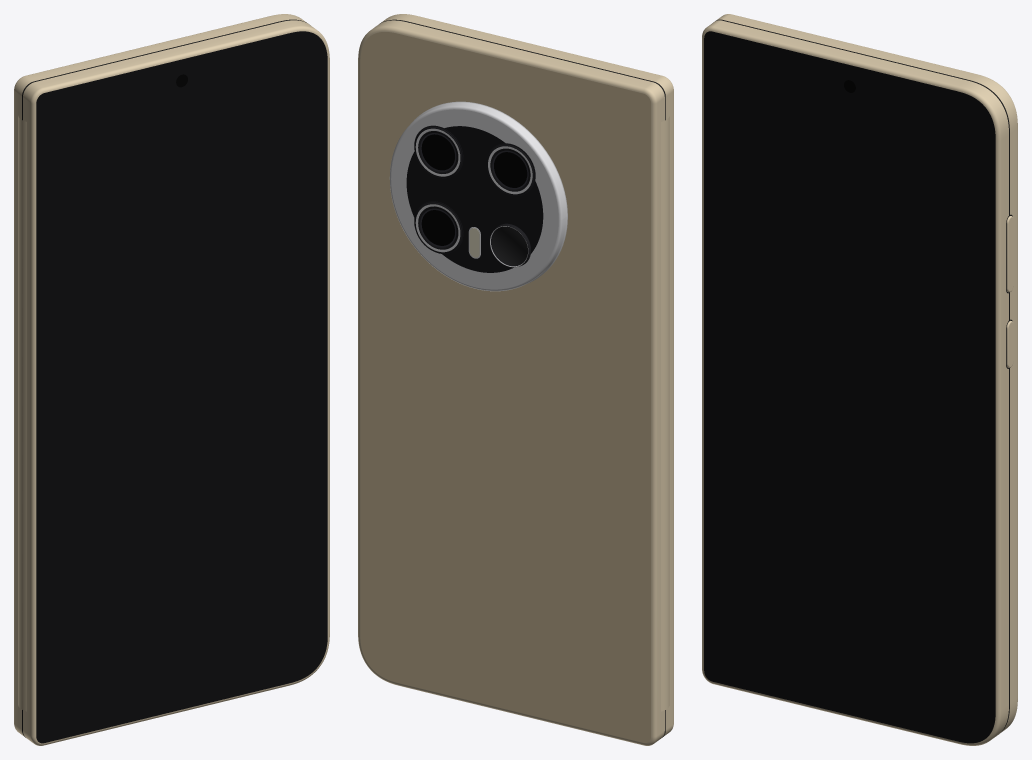
File: honor-magic-v6.glb
3 views of the same model, side by side, from view 1: azimuth 30°, elevation 25°; view 2: azimuth 150°, elevation 25°; view 3: azimuth 330°, elevation 25° (orthographic).
Parts seen in each view (by area): view 1: body, fold; view 2: body, camera, fold; view 3: body, fold, buttons.
Part boxes in pixels (x1,y1,x2,y2): body: (14, 14, 329, 745); fold: (18, 19, 306, 737); body: (358, 14, 673, 745); camera: (389, 101, 567, 291); fold: (380, 19, 669, 737); body: (702, 14, 1017, 745); fold: (716, 19, 1009, 732); buttons: (1006, 214, 1013, 368).
Bounding box in the file's own units: 75.38 × 157 × 12.07.
